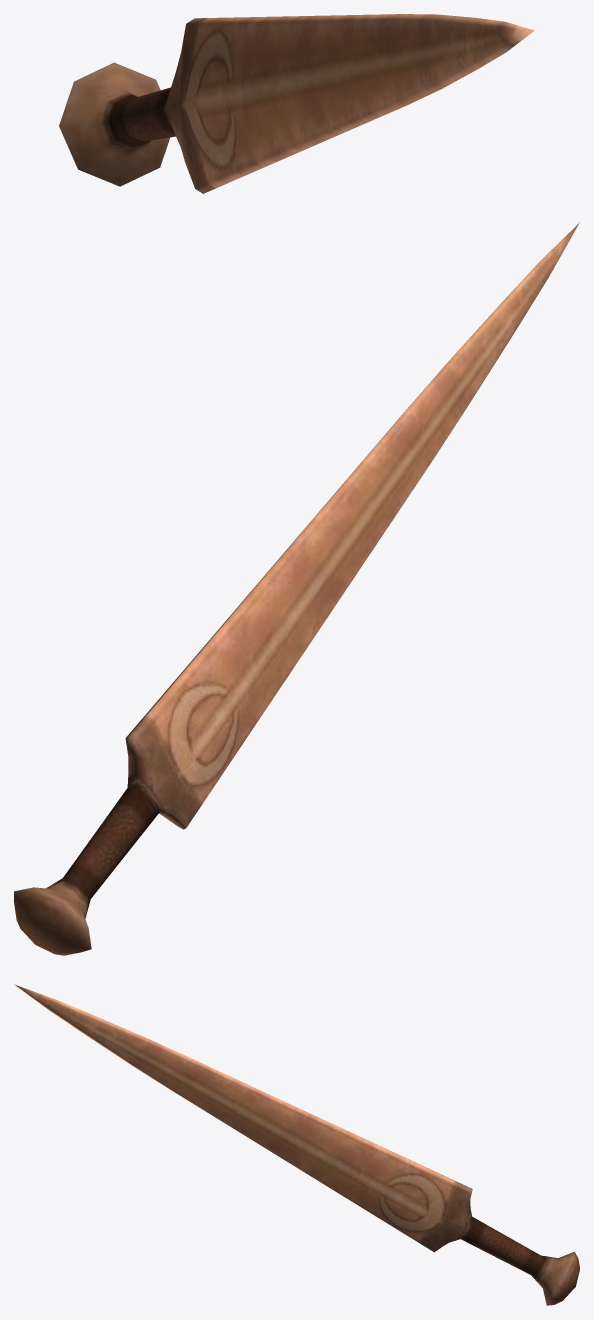
The model's file is weapon-copperweapons.glb.
The picture shows the model from 3 angles, top to bottom: view 1: azimuth 30°, elevation 25°; view 2: azimuth 150°, elevation 25°; view 3: azimuth 270°, elevation 25°; orthographic projection. The views are drawn at different scales.
Size of the model in its own units: 0.1715 by 0.5217 by 0.9303.
Materials: 1 (1 with a texture image).
